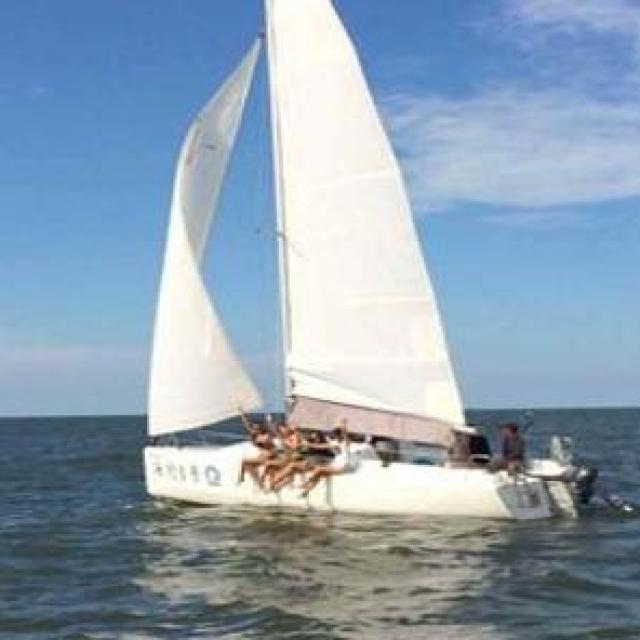sailboat: (132, 5, 606, 531)
